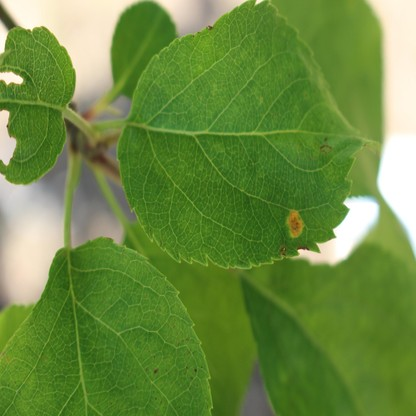rust: (286, 210, 302, 238)
